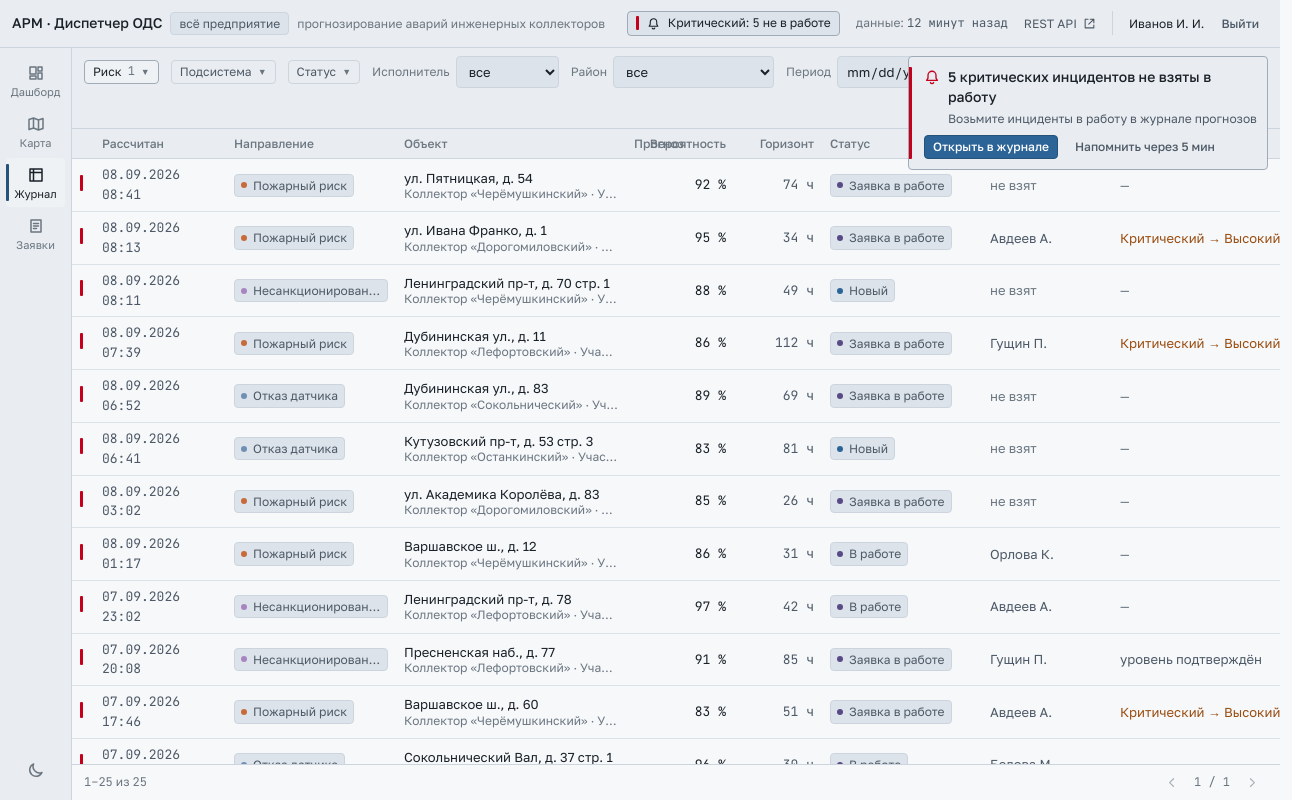
Scenario: журнал прогнозов › восстанавливает фильтр из ссылки и показывает только отфильтрованное
The width and height of the screenshot is (1292, 800).
// Уровни живут в выпадающем списке: плашек в панели больше нет.
Step 1. Click the heading "Риск 1 ▼" → (121, 72), box 84,60 -> 159,84
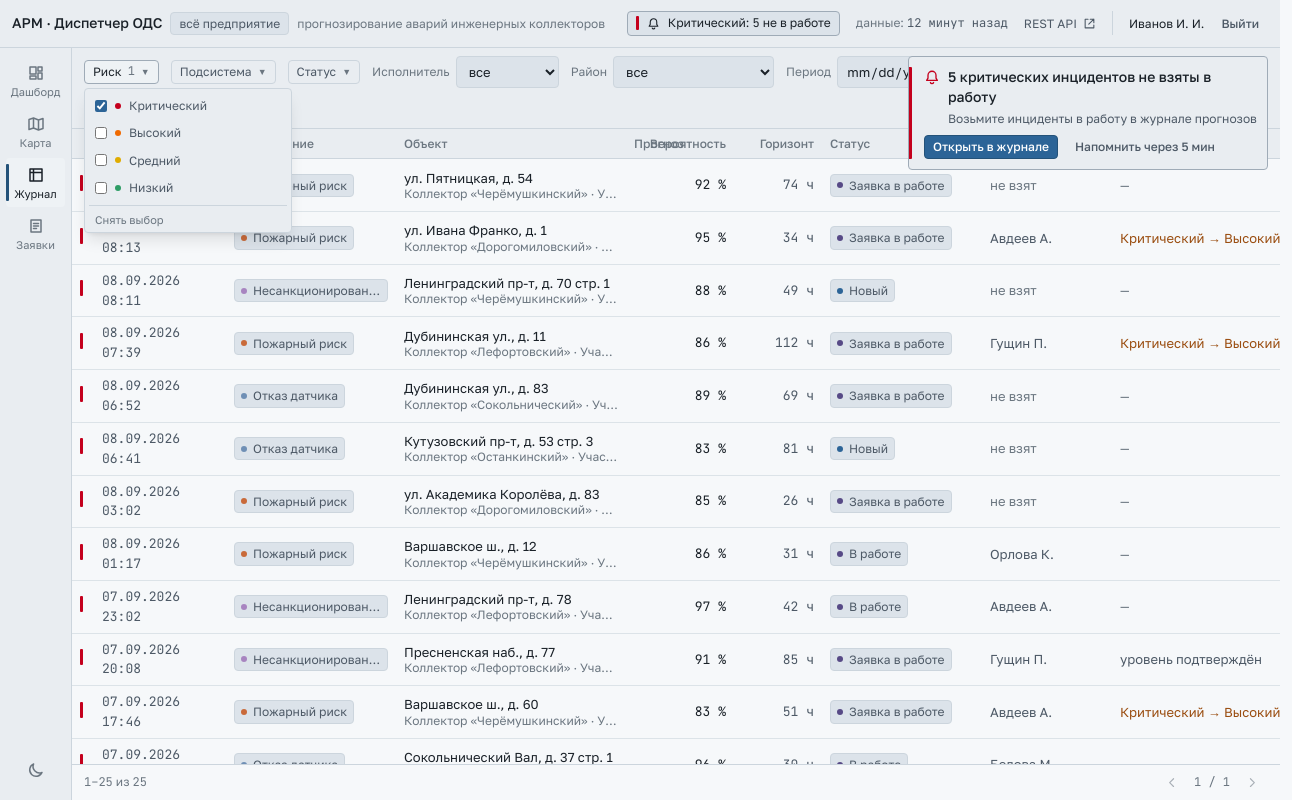
expect the checkbox labelled "Критический" is checked: met, box 95,100 -> 107,112
